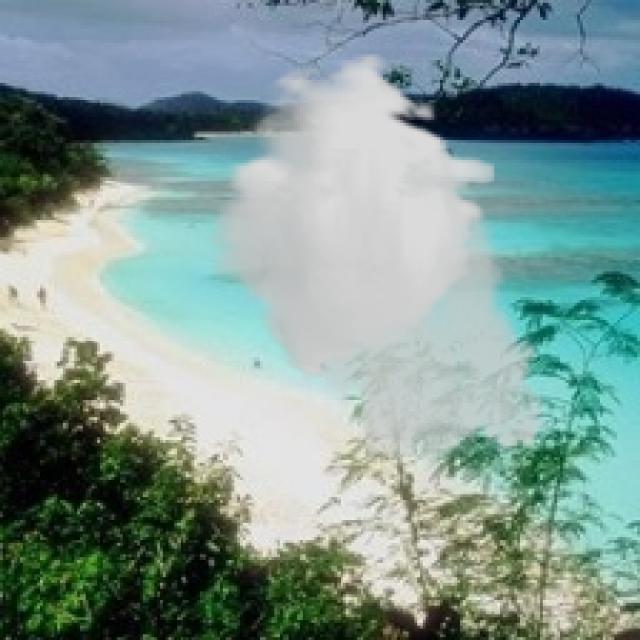smoke: (211, 52, 560, 477)
